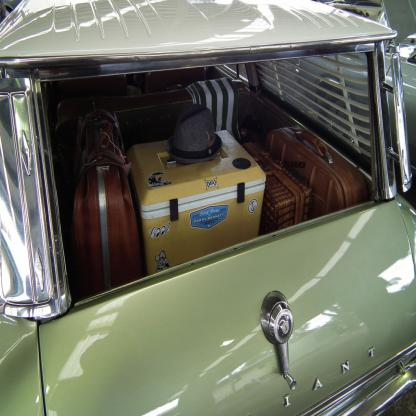Car: (0, 6, 409, 416)
